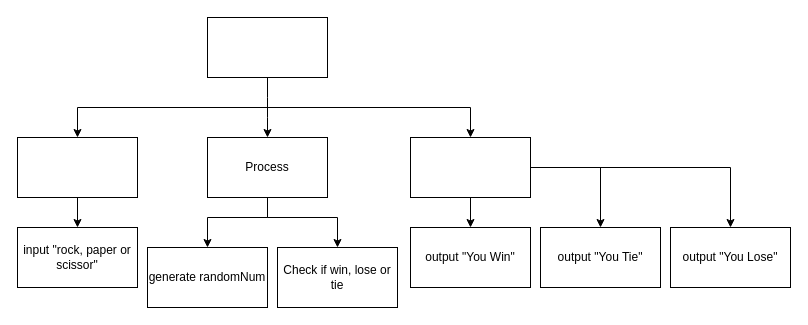
The diagram is 808 pixels wide and 325 high, and some of its shapes have lost their labels. The shapes that lost their labels are listed below. From the top down, each one's centre as x and y in pixels, then its label:
At (x=267, y=47): "game".
At (x=77, y=167): "Input".
At (x=470, y=167): "Output".
